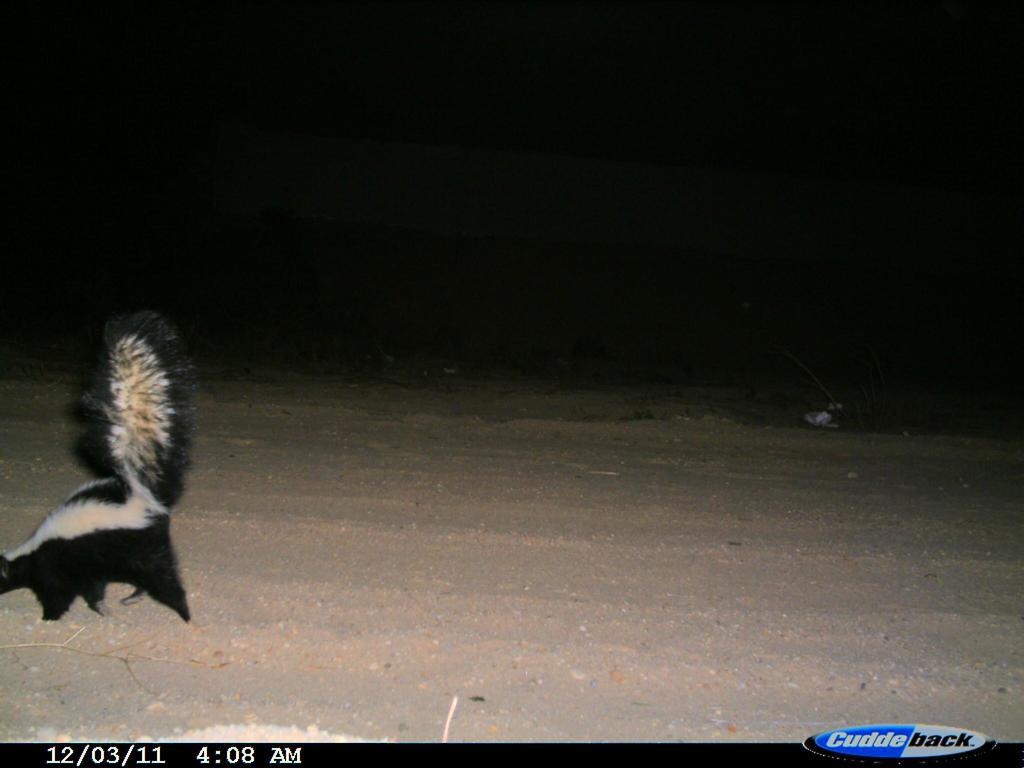skunk: (3, 303, 208, 632)
